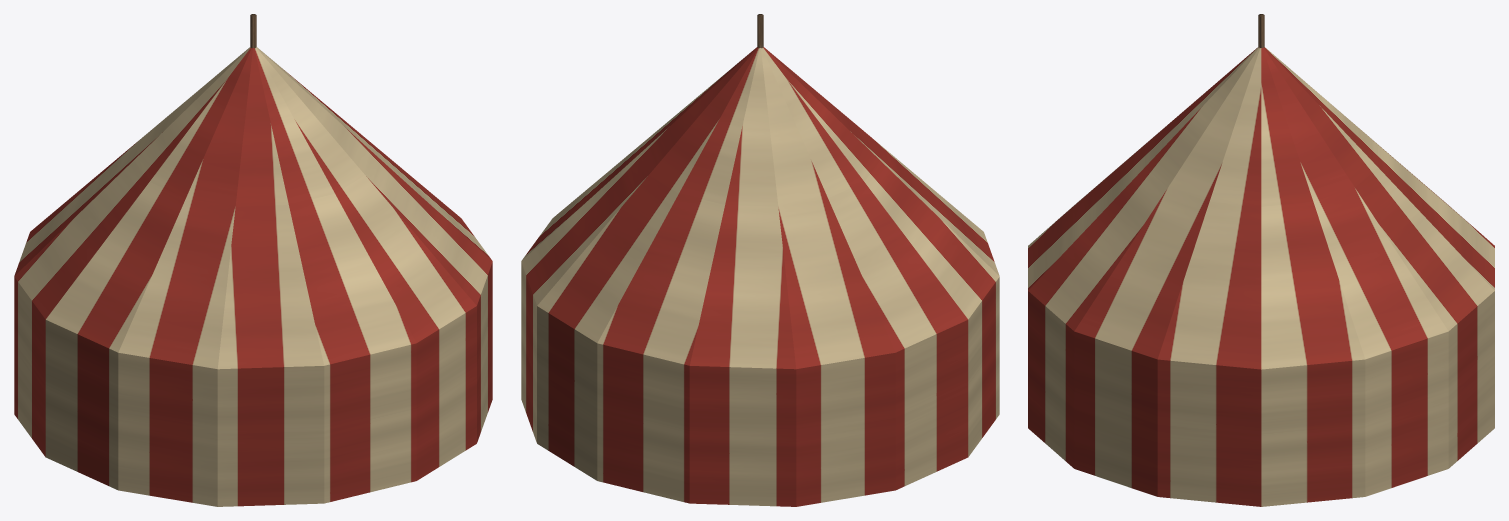
The model's file is Tent_Striped_1.gltf.
3 views of the same model, side by side, from view 1: azimuth 30°, elevation 25°; view 2: azimuth 150°, elevation 25°; view 3: azimuth 270°, elevation 25° (orthographic).
Visible parts, largest first — view 1: Tent_Striped_1; view 2: Tent_Striped_1; view 3: Tent_Striped_1.
Boxes of the visible parts, x1,y1,x2,y2 form: Tent_Striped_1: [14, 14, 492, 506]; Tent_Striped_1: [521, 14, 999, 506]; Tent_Striped_1: [1028, 14, 1494, 506].
Bounding box in the file's own units: 6 × 5.4 × 5.85.
Materials: 2 (2 with a texture image).
